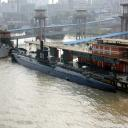submarine: (12, 42, 118, 94)
